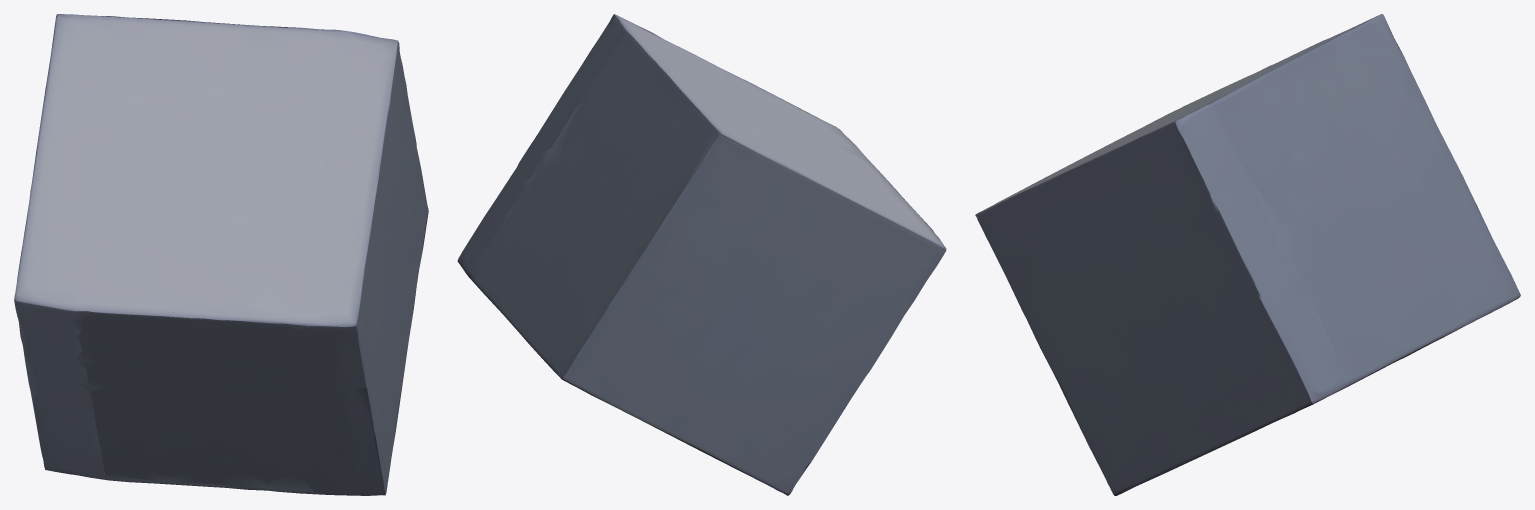
The model's file is 0015_mask_016_blue_cube.glb.
The picture shows the model from 3 angles, left to right: view 1: azimuth 30°, elevation 25°; view 2: azimuth 150°, elevation 25°; view 3: azimuth 270°, elevation 25°; orthographic projection. The views are drawn at different scales.
Visible parts, largest first — view 1: mask_016_object; view 2: mask_016_object; view 3: mask_016_object.
Boxes of the visible parts, x1,y1,x2,y2 form: mask_016_object: (14,14,428,495); mask_016_object: (457,14,946,495); mask_016_object: (975,14,1520,495).
Bounding box in the file's own units: 0.1622 × 0.1371 × 0.1689.
